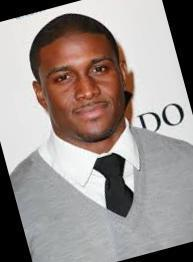Sober: (42, 40, 121, 132)
